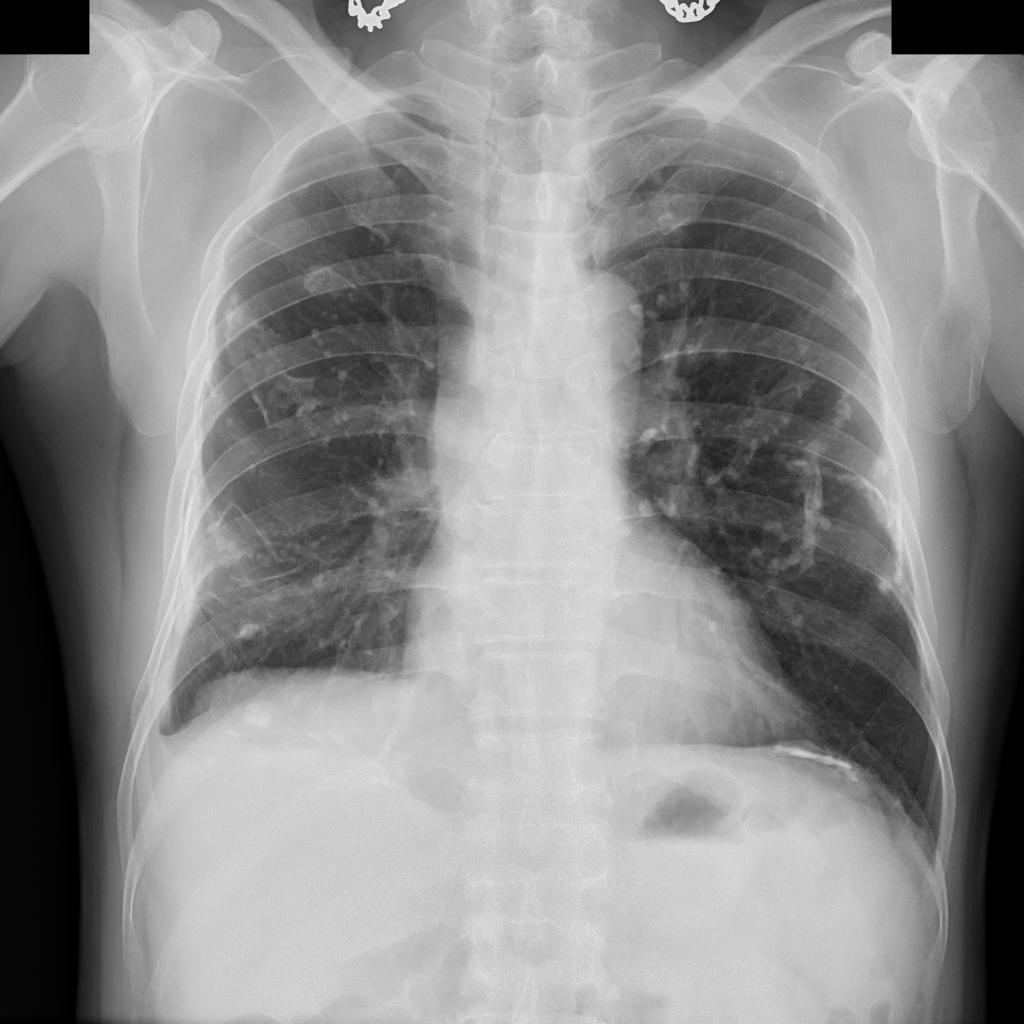Nodule: (241, 621, 262, 642), (313, 573, 328, 593)
